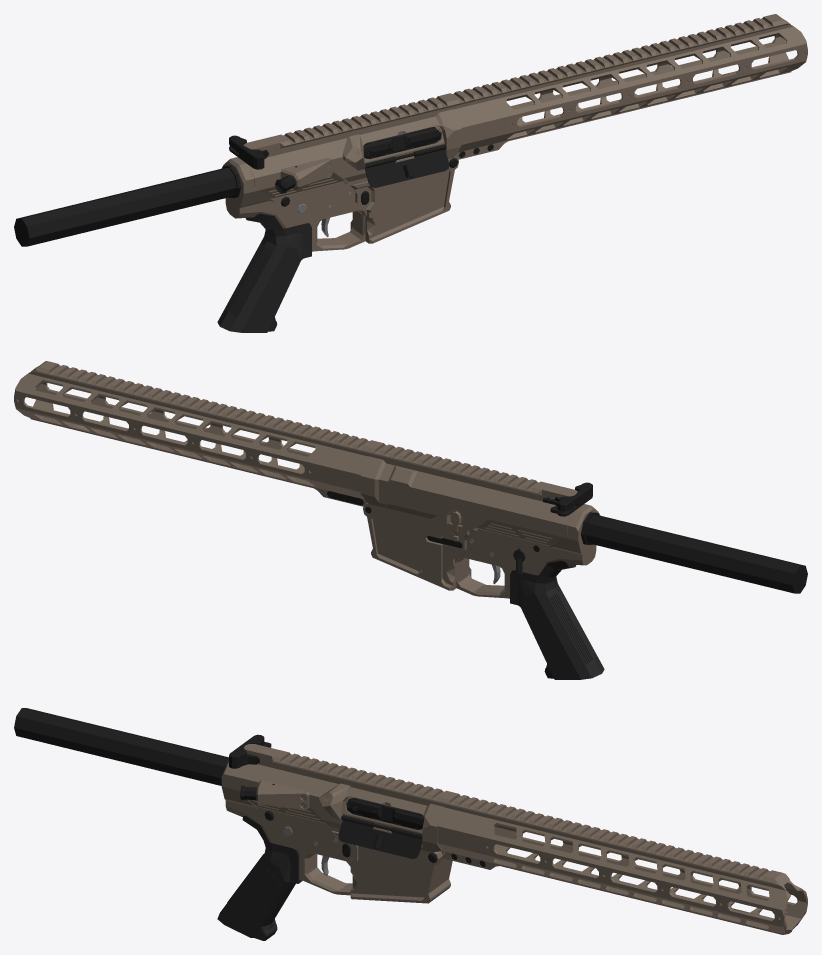
Rendered from uar-10.glb.
3 views of the same model, one above another, from view 1: azimuth 30°, elevation 25°; view 2: azimuth 150°, elevation 25°; view 3: azimuth 330°, elevation 25° (orthographic).
Visible parts, largest first — view 1: uar10 handguard_10, uar10 lower_11 (×2), uar10 upper_20, uar10 grip_9, uar10 dust cover_8, uar10 bolt_5, uar10 charging handle_7; view 2: uar10 handguard_10, uar10 lower_11 (×2), uar10 upper_20, uar10 grip_9, uar10 charging handle_7; view 3: uar10 handguard_10, uar10 lower_11 (×2), uar10 upper_20, uar10 grip_9, uar10 dust cover_8, uar10 bolt_5, uar10 charging handle_7.
Boxes of the visible parts, x1,y1,x2,y2 form: uar10 handguard_10: (445, 14, 807, 159); uar10 lower_11 (×2): (14, 156, 458, 251); uar10 upper_20: (243, 94, 461, 198); uar10 grip_9: (217, 213, 311, 332); uar10 dust cover_8: (364, 144, 449, 187); uar10 bolt_5: (363, 127, 441, 158); uar10 charging handle_7: (229, 135, 268, 169); uar10 handguard_10: (14, 361, 376, 506); uar10 lower_11 (×2): (363, 502, 807, 598); uar10 upper_20: (360, 441, 577, 545); uar10 grip_9: (510, 560, 604, 679); uar10 charging handle_7: (543, 482, 592, 516); uar10 handguard_10: (437, 792, 807, 934); uar10 lower_11 (×2): (14, 708, 452, 903); uar10 upper_20: (232, 744, 452, 858); uar10 grip_9: (217, 815, 302, 940); uar10 dust cover_8: (338, 815, 422, 858); uar10 bolt_5: (346, 797, 423, 829); uar10 charging handle_7: (229, 734, 271, 768).
Size of the model in its own units: 8.15 by 1.87 by 0.7069.
